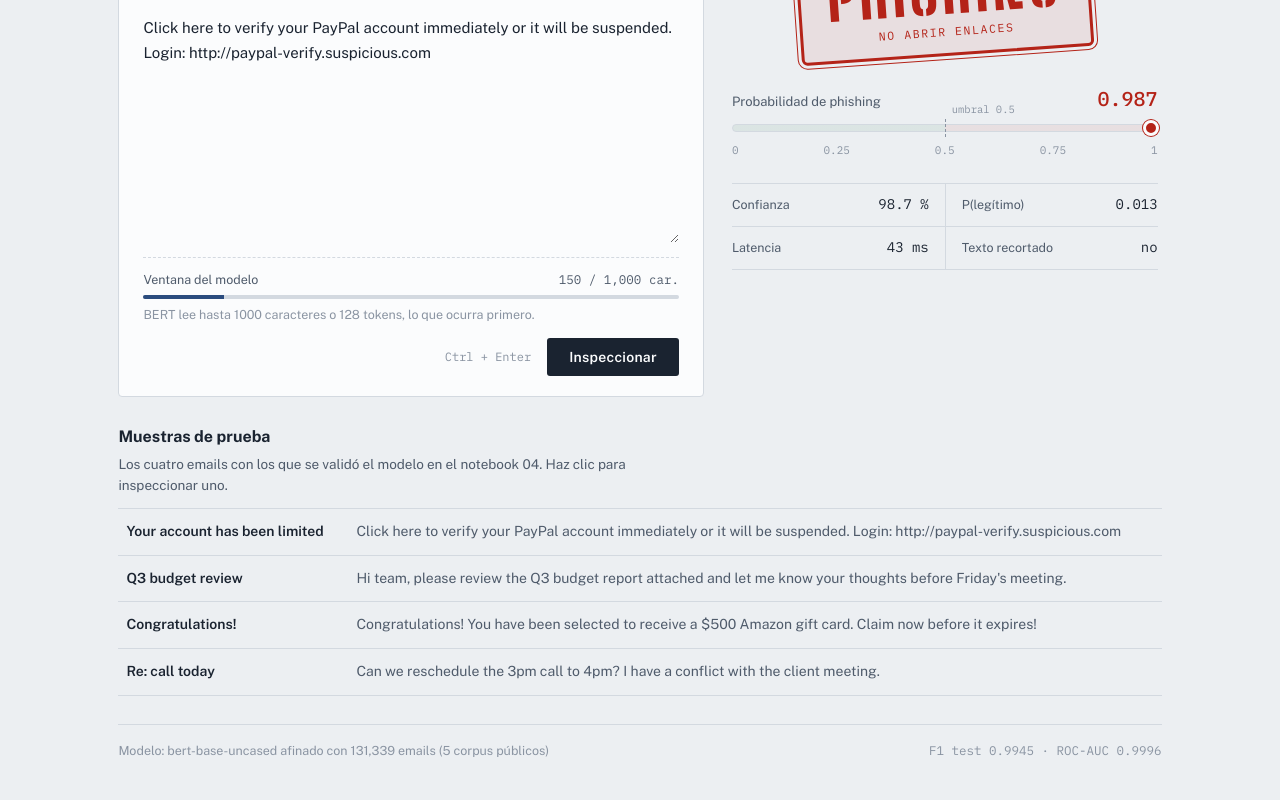
it: App: muestras › muestra 4 muestras y al hacer clic carga e inspecciona
This screenshot has width=1280, height=800.
(page scrolled)
Click the button "Q3 budget review". click: (640, 579)
box: [118,556,1162,601]
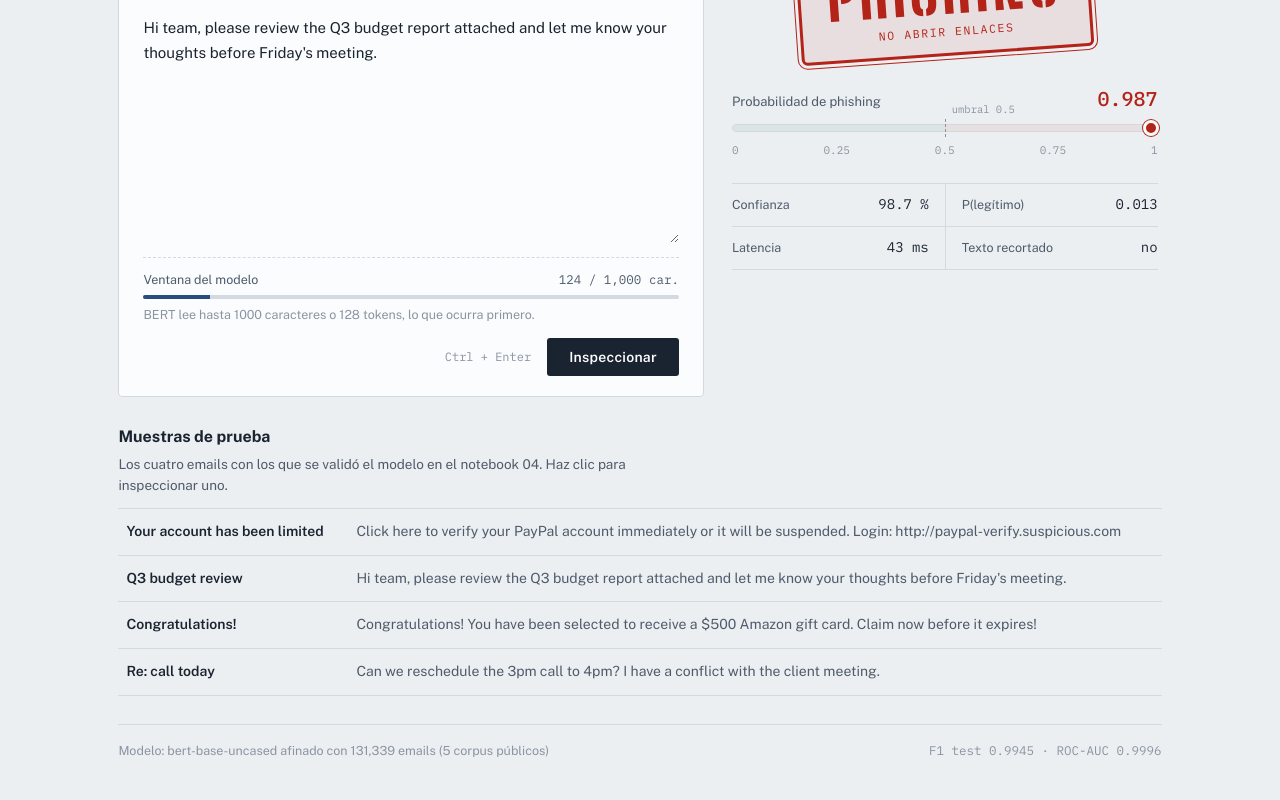
Expected: the text "Q3 budget review" is shown, [126,570,243,586]
Expected: the text box named "Cuerpo del mensaje" holds "Hi team, please review the Q3 budget report attached and let me know your thoughts before Friday's meeting.", [143,12,679,243]
